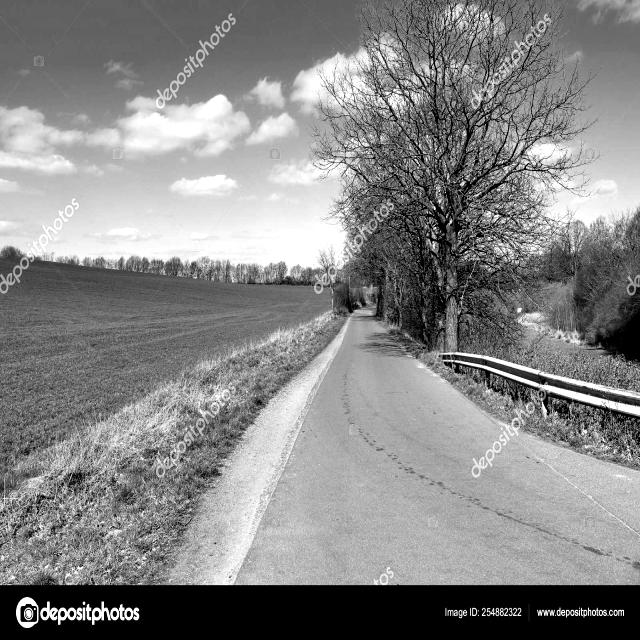cleat: (310, 292, 640, 640)
